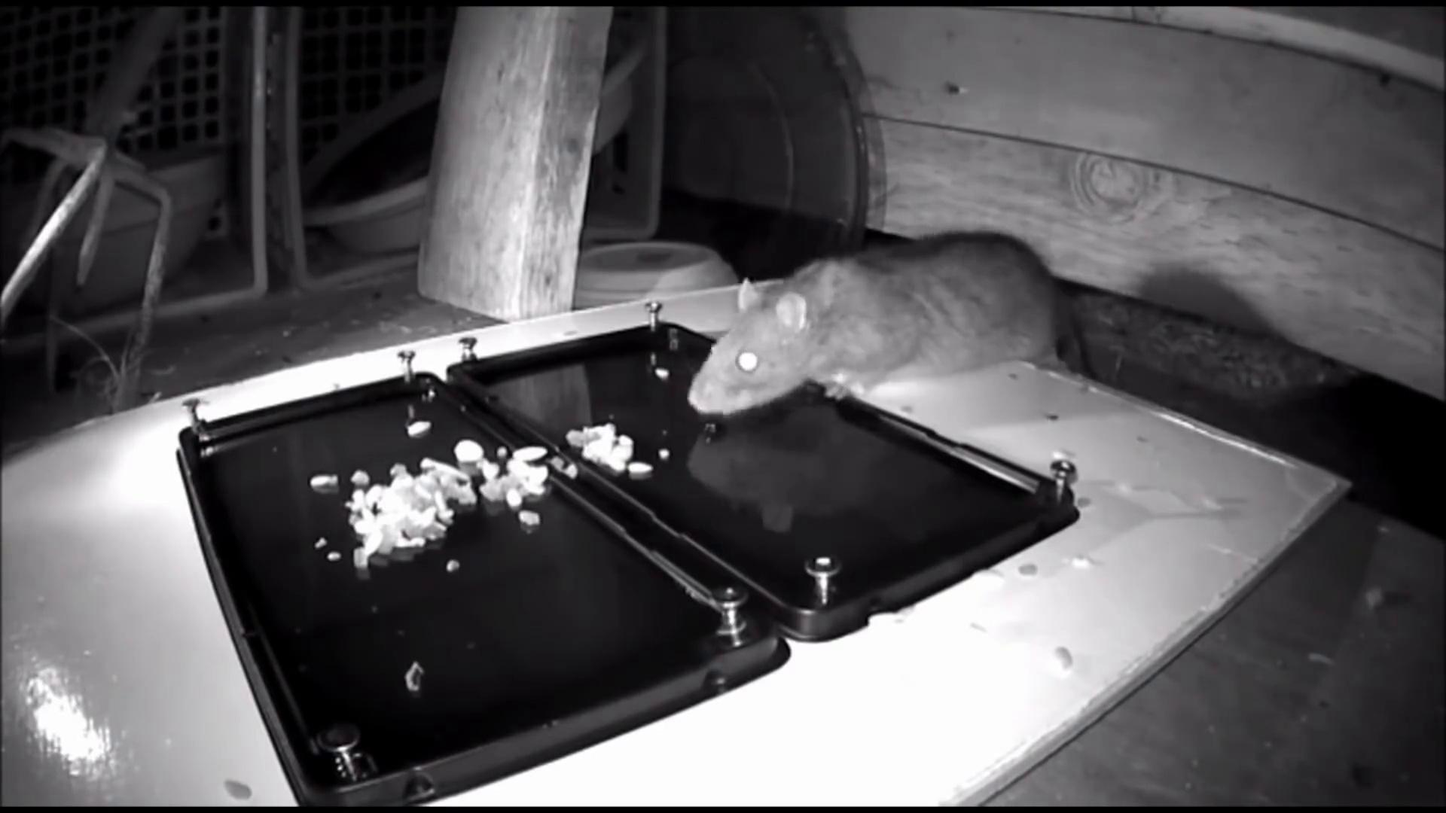rat: (683, 217, 1060, 424)
